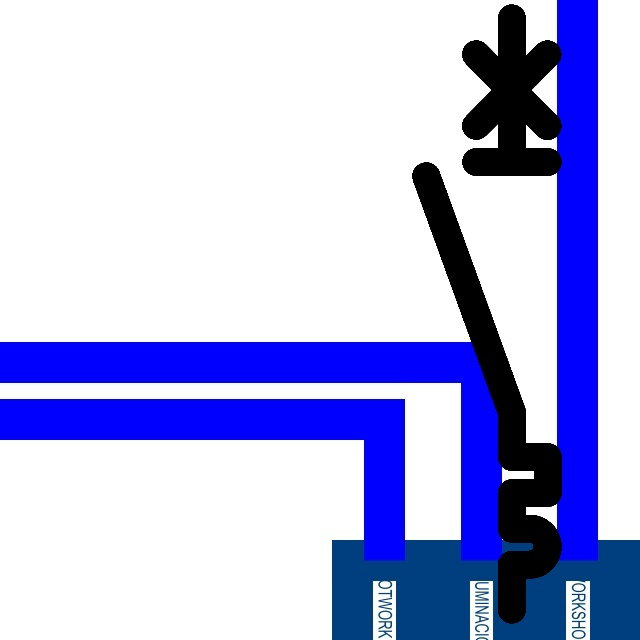interruptor_termomagnetico: (411, 3, 563, 625)
